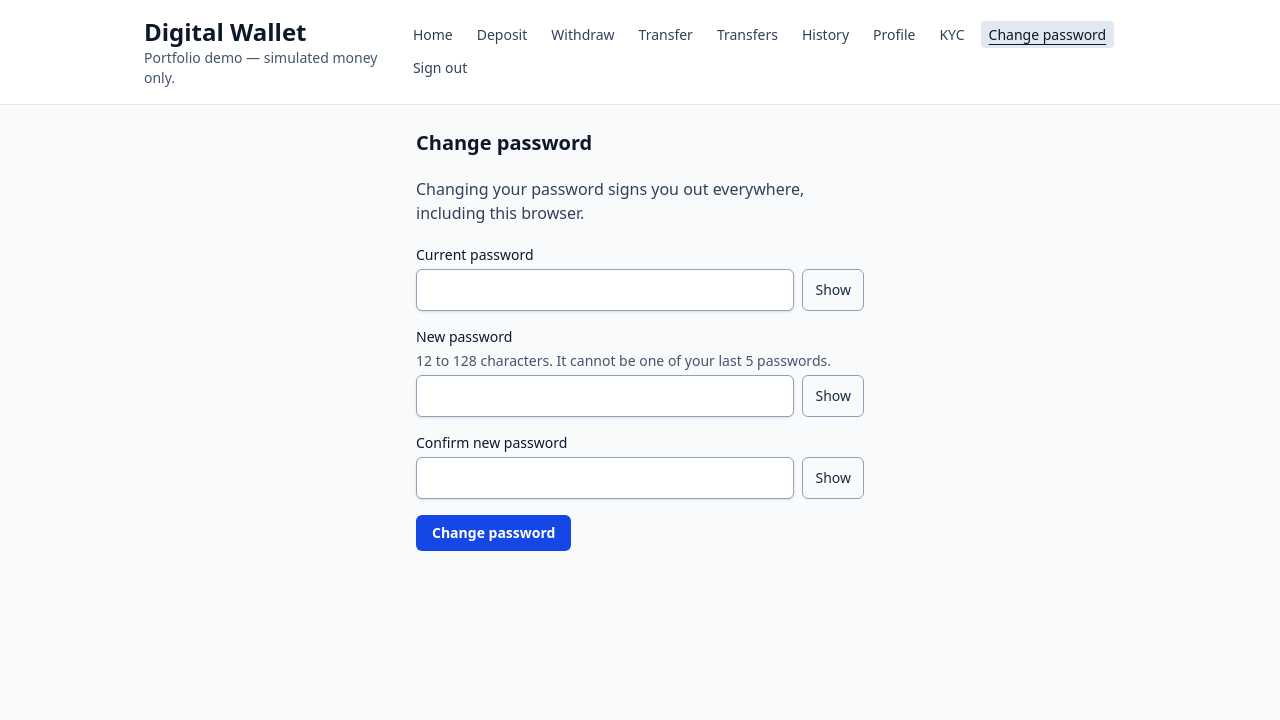
Test case: ChangePasswordPage › changes the password, ends the session and asks to sign in again
Type "the old passphrase" into the password field labelled "Current password" at (605, 290), box [416,269,794,311]
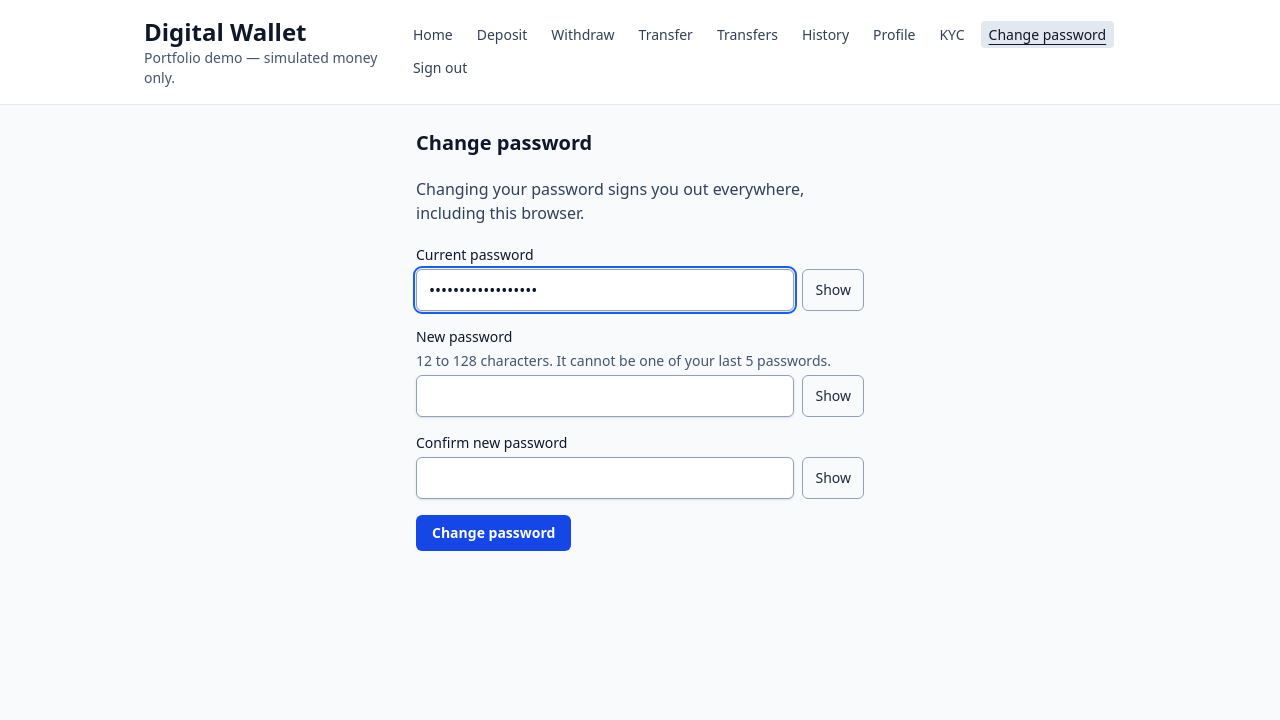
Type "a brand new passphrase" into the password field labelled "New password" at (605, 396), box [416,375,794,417]
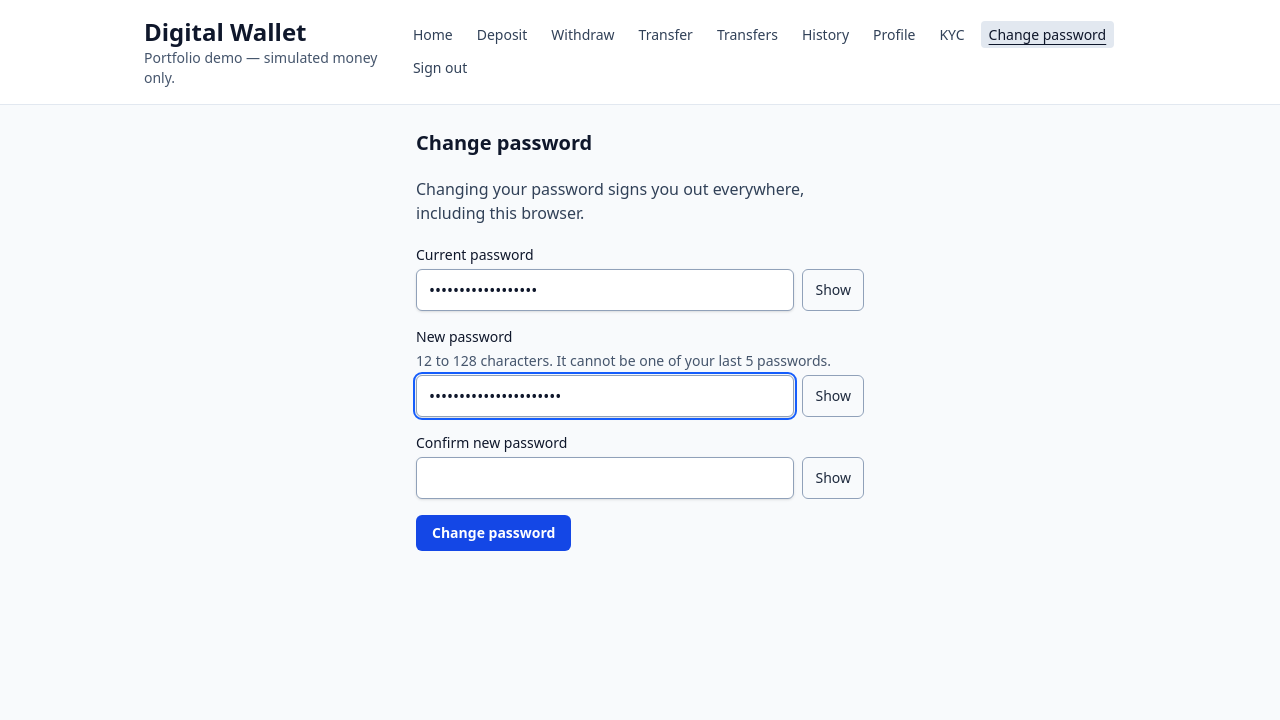
Type "a brand new passphrase" into the password field labelled "Confirm new password" at (605, 478), box [416,457,794,499]
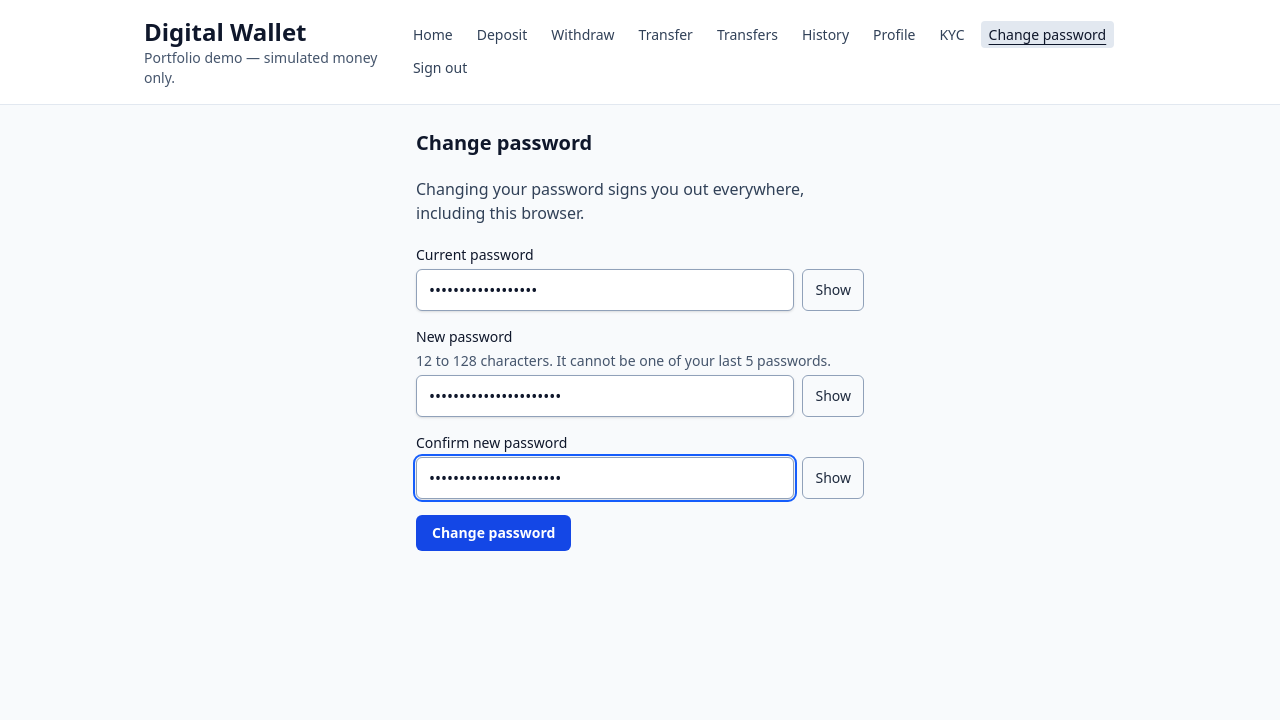
Click the button "Change password" at (494, 533), box [416,515,571,551]
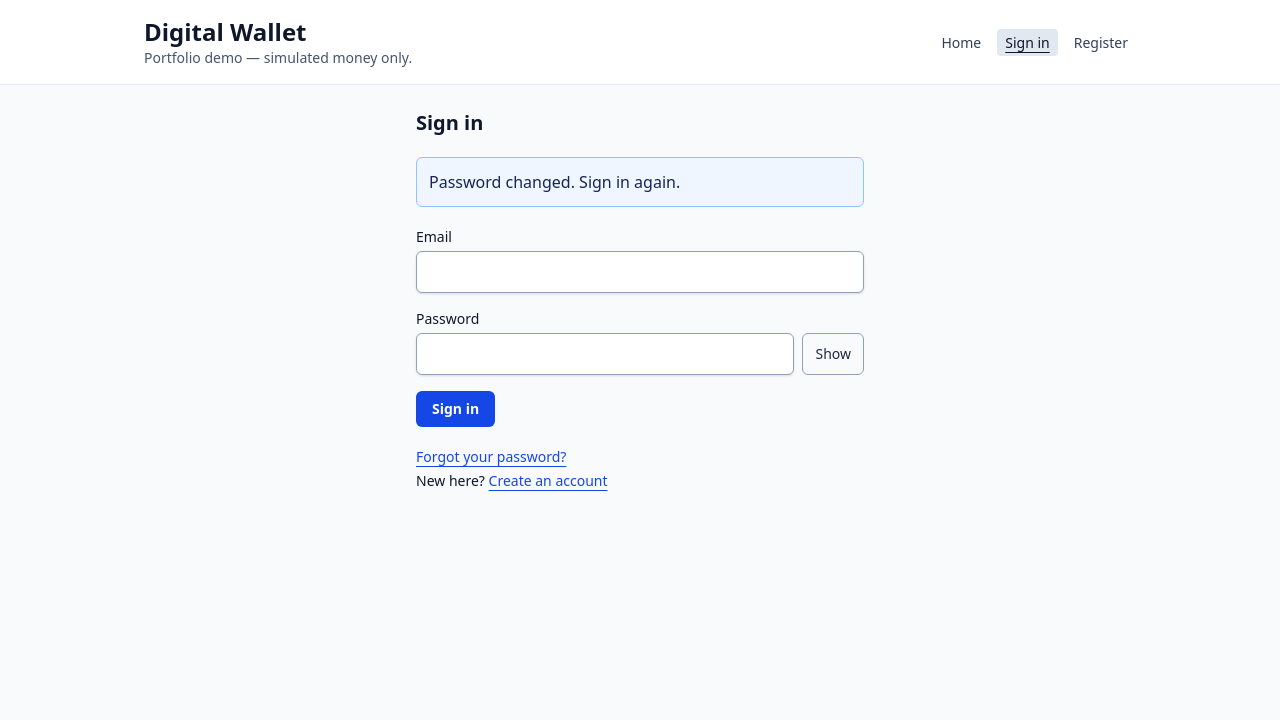
expect the message reads "Password changed. Sign in again.": met, box [429,171,680,193]
expect the link "Sign in" is shown: met, box [997,29,1058,56]
